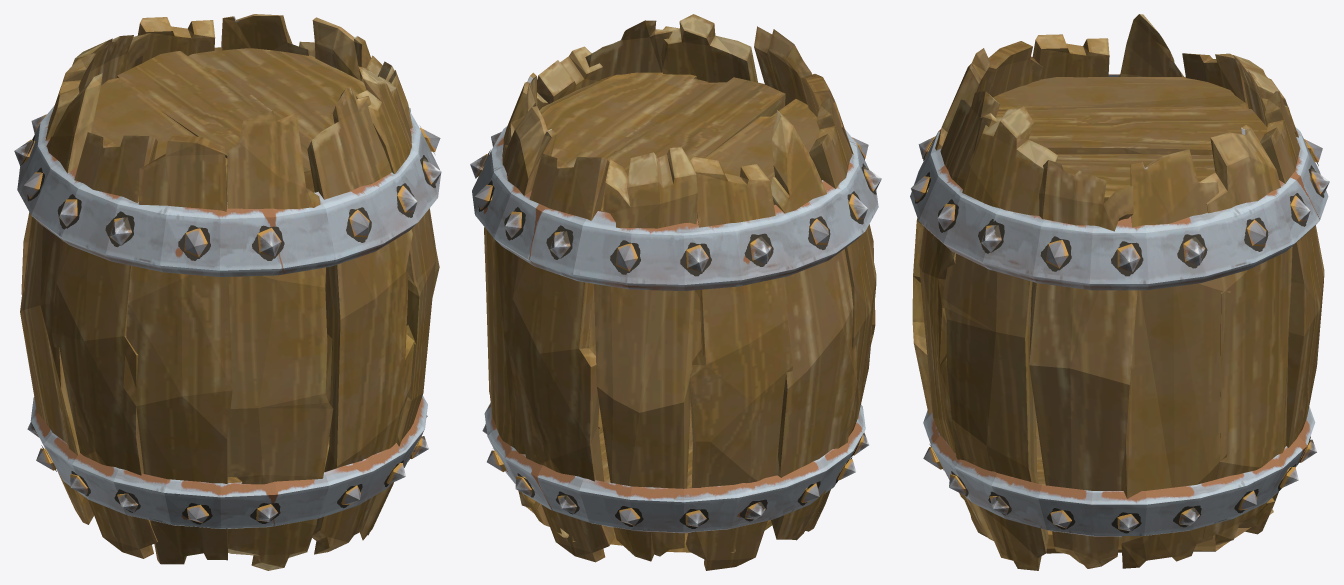
File: Wood_Barrel.fbx
3 views of the same model, side by side, from view 1: azimuth 30°, elevation 25°; view 2: azimuth 150°, elevation 25°; view 3: azimuth 270°, elevation 25° (orthographic). The views are drawn at different scales.
Visible parts, largest first — view 1: Dn_HL_Wood_Barrel_A.mo; view 2: Dn_HL_Wood_Barrel_A.mo; view 3: Dn_HL_Wood_Barrel_A.mo.
Boxes of the visible parts, x1,y1,x2,y2 form: Dn_HL_Wood_Barrel_A.mo: (14, 14, 441, 570); Dn_HL_Wood_Barrel_A.mo: (470, 14, 881, 570); Dn_HL_Wood_Barrel_A.mo: (910, 14, 1329, 570).
Bounding box in the file's own units: 143 × 172 × 142.
1 material, 1 textured.
